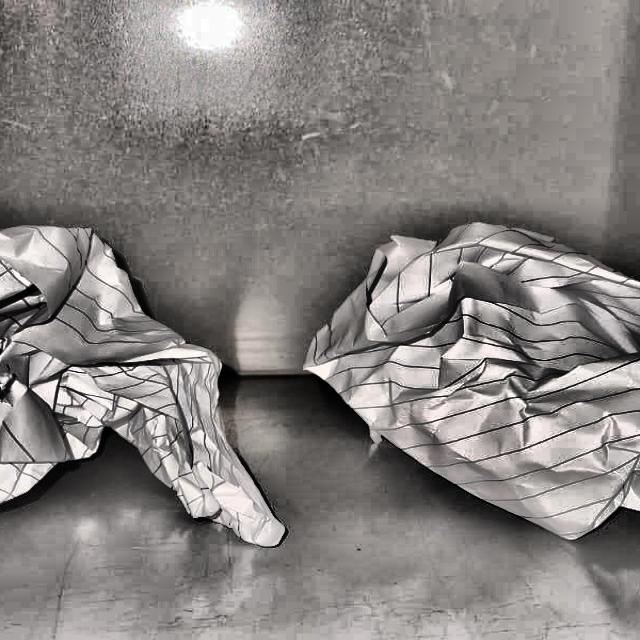paper: (0, 209, 288, 601), (342, 209, 640, 547)
